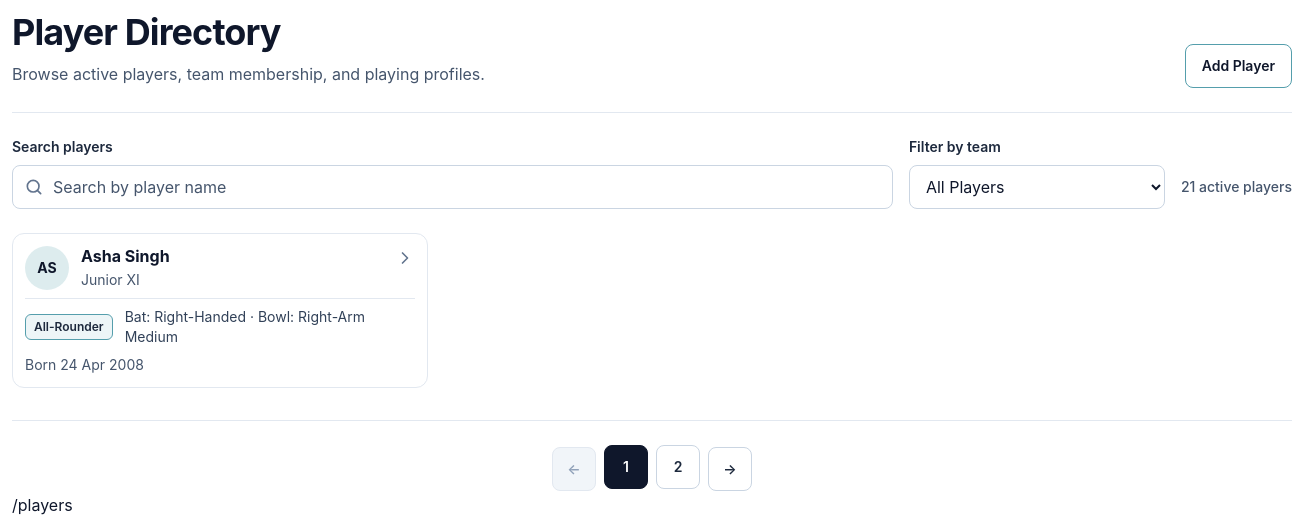
Test: PlayersPage › distinguishes filtered no-results from a truly empty directory
The image size is (1304, 532).
Expected: the text "Asha Singh" is shown, [81,246,170,266]
Select "Junior XI" in the dropdown labelled "Filter by team" at (1037, 187), box [909,165,1165,209]
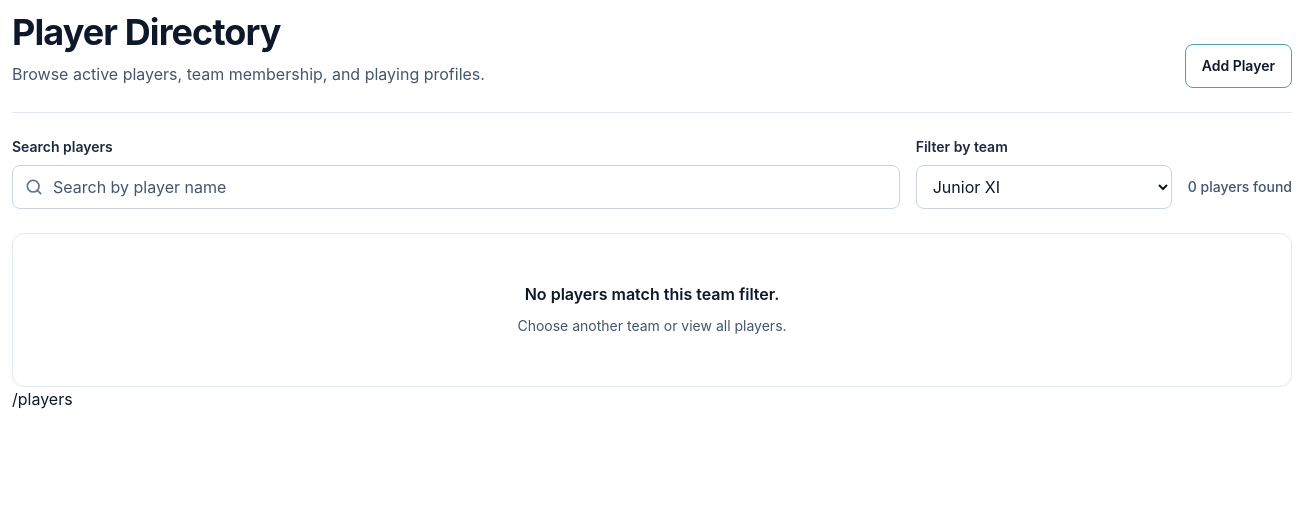
Expected: the text "No players match this team filter." is shown, [525,284,779,304]
Expected: the text "Choose another team or view all players." is shown, [517,317,787,334]
